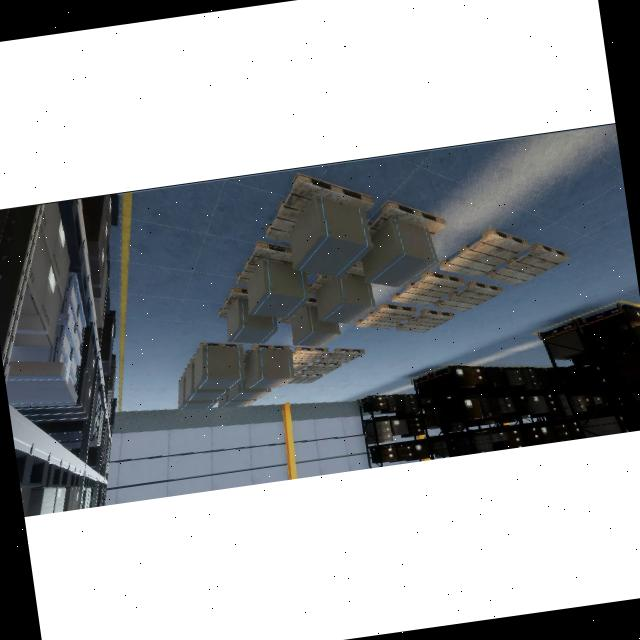wooden_pallet: (264, 174, 374, 241), (440, 228, 529, 280), (486, 244, 569, 287), (369, 200, 446, 240), (391, 270, 468, 308), (234, 242, 293, 283), (434, 282, 504, 311), (356, 303, 418, 331), (395, 310, 456, 334), (192, 341, 244, 361), (217, 286, 248, 318), (243, 344, 290, 363), (319, 349, 365, 364), (291, 347, 329, 363), (301, 362, 342, 375), (287, 374, 323, 384), (292, 362, 307, 376)
